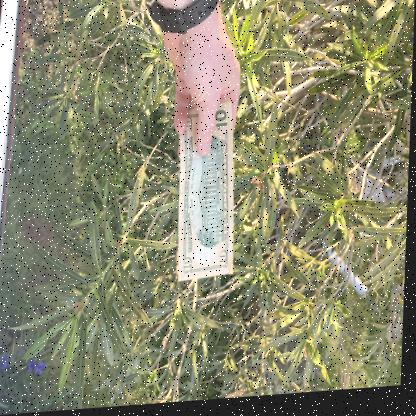ten-back: (172, 94, 237, 278)
